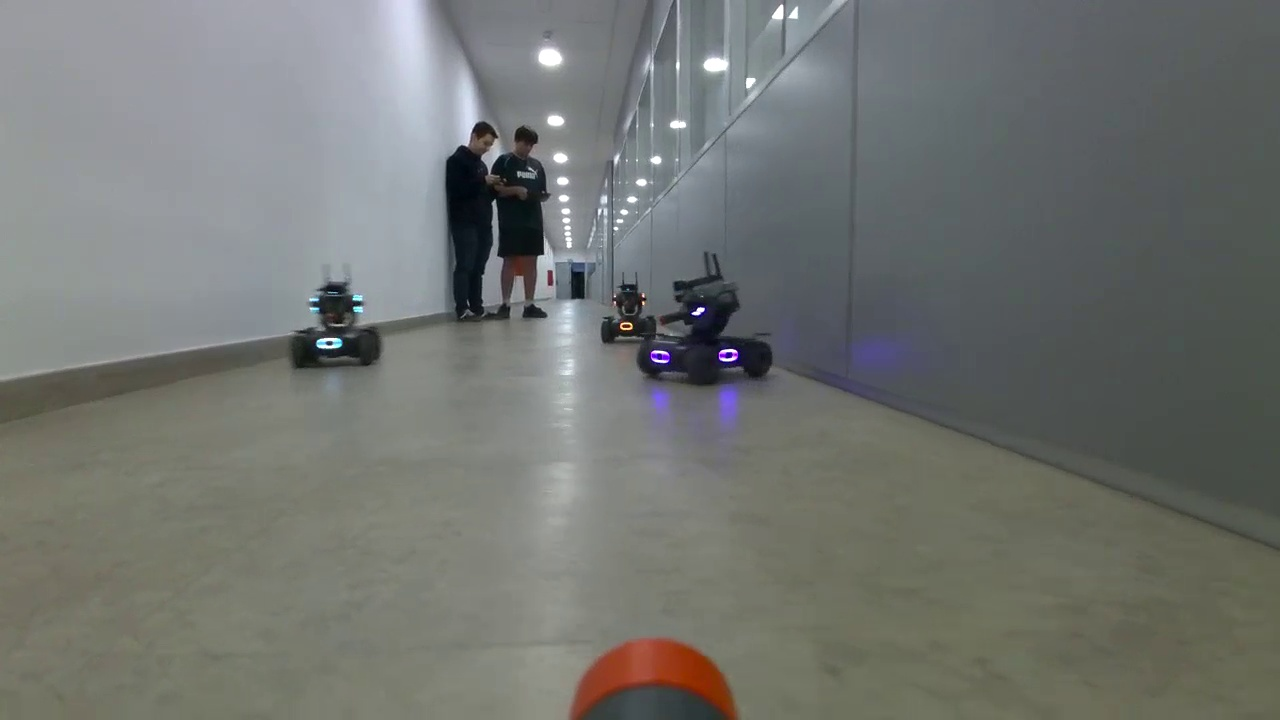robot: (637, 275, 775, 382), (289, 281, 385, 367), (602, 283, 658, 346)
